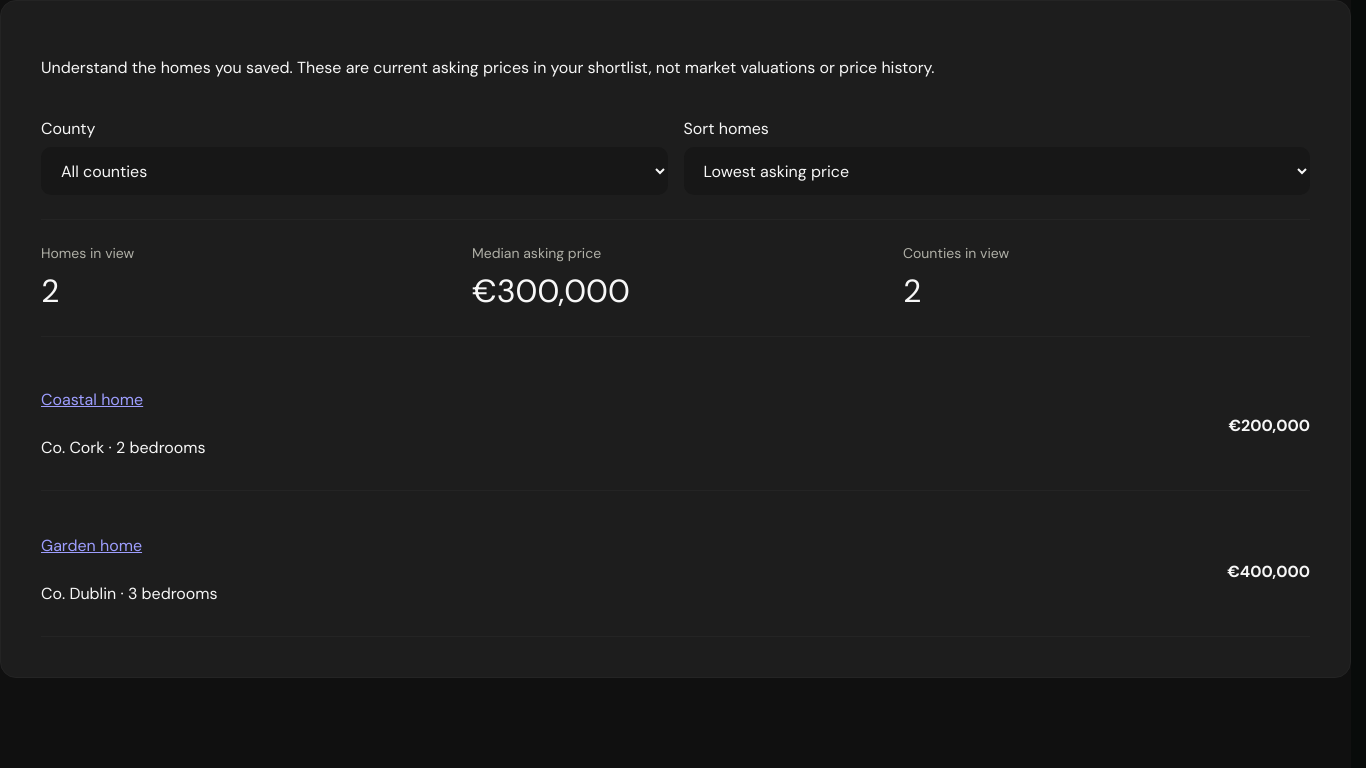
Test case: calculates the shortlist median and filters without changing saved homes
Expected: the text "€300,000" is shown, [472,270,630,312]
Select "Cork" in the dropdown labelled "County" at (354, 171), box [41,147,668,195]
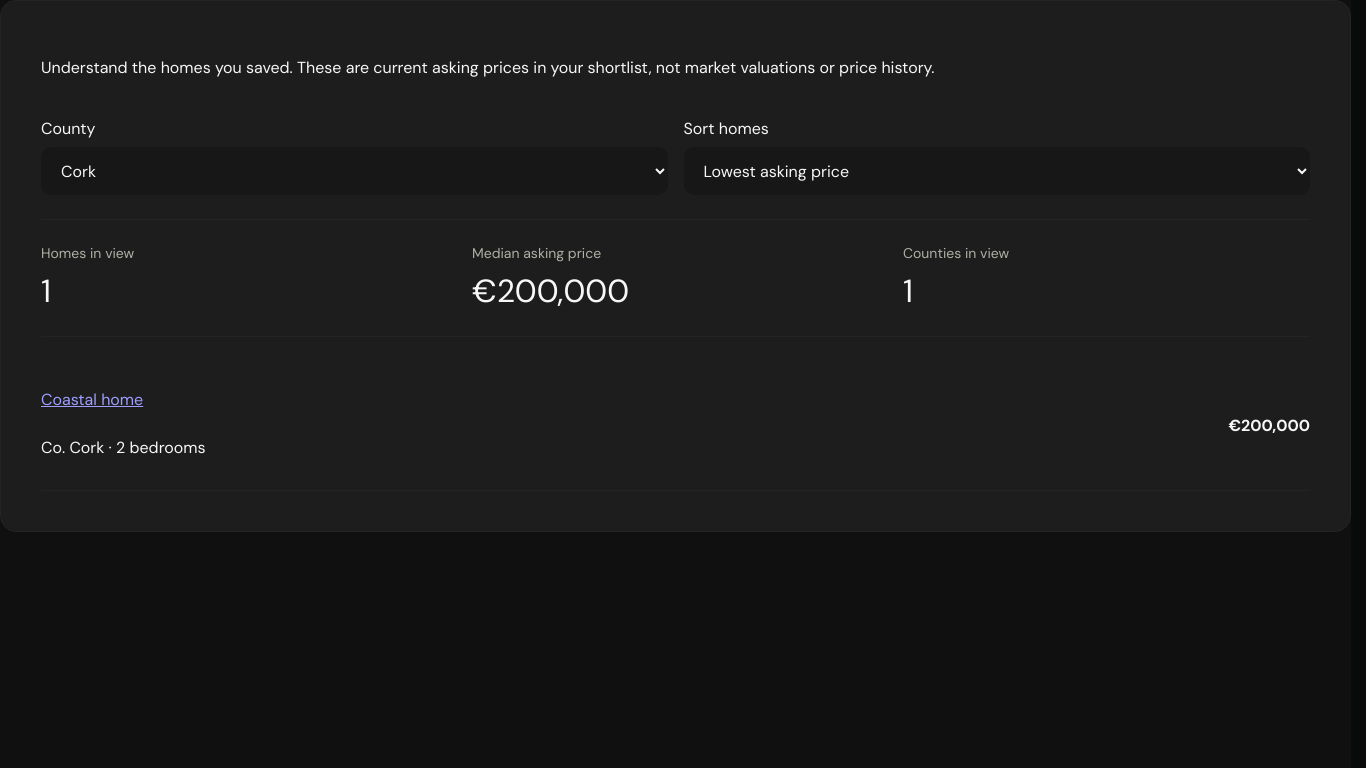
Now the link "Garden home" is gone
